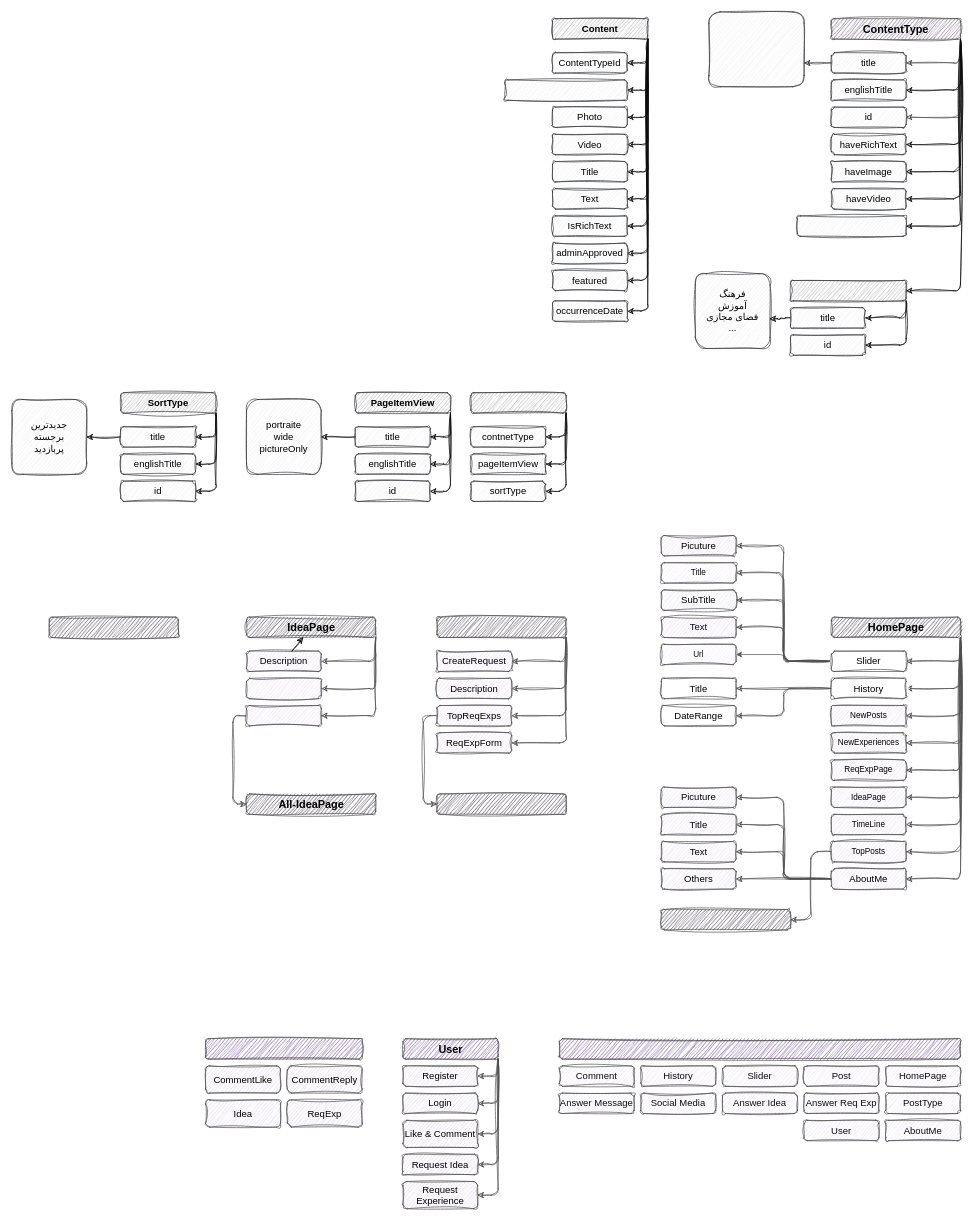
Some shapes in this 978 by 1221 pixel diagram are drawn without their labels. The centre of each missing label's shape, as x and y in pixels:
AdminPanel: the point at 760,1048
All-PostPage: the point at 725,919
All-ReqExpPage: the point at 501,803
ContentTypeCategory: the point at 848,290
ContentTypeCategoryId: the point at 565,89
CreateIdea: the point at 283,688
DirectMessage: the point at 113,627
needAdminApprove: the point at 851,225
PageItem: the point at 518,402
Post Experience Idea useIdea userExpRequest: the point at 756,49
ReqExperiencePage: the point at 501,627
TopIdeas: the point at 283,715
UserPanel: the point at 283,1048
